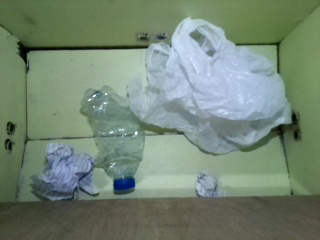damaged-bottle: (79, 85, 145, 190)
paper: (31, 141, 100, 201), (194, 170, 227, 197)
plastic-bag: (130, 15, 292, 155)
